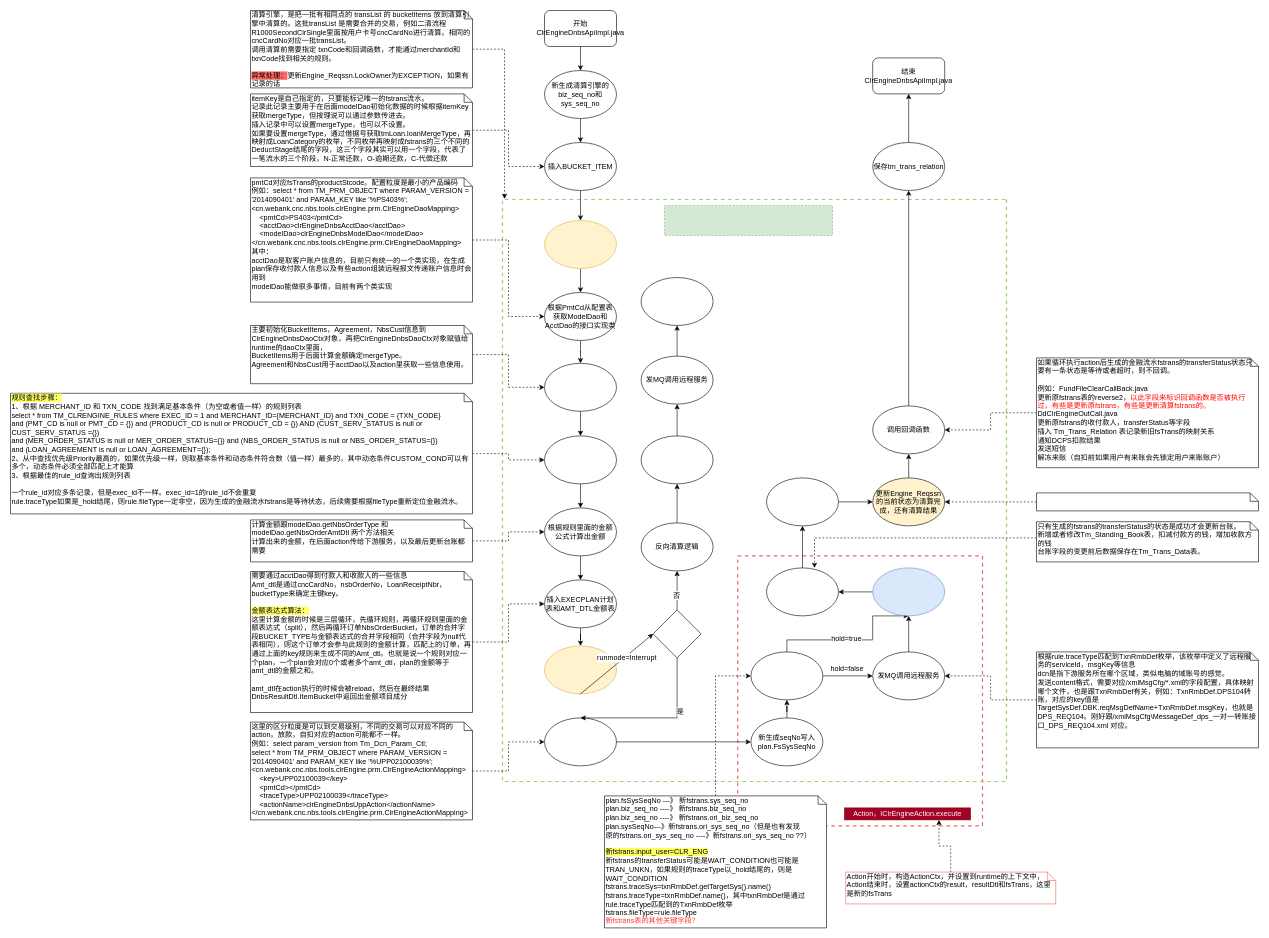
This 1269x938 diagram has some shape labels left out. Each missing label, with the centre of its shape:
"Engine_Reqssn状态置为清算执行中" belongs at [580,669].
"一定会新写入一条金融流水到fstrans表" belongs at [786,675].
"先判断是否需要冲正，如果需要的话，调用TxnRmbDef.DPS100通用冲正接口进行冲正" belongs at [676,459].
"匹配规则到最佳规则rule，再通过最佳的ruleId找到规则列表" belongs at [580,459].
"如果冲正成功，则更新新的fstrans的transferStatus为CANCEL" belongs at [676,301].
"循环execPlan进行清算（根据pmtCd和rule.traceType或者只根据rule.traceType确定使用哪个action执行器）" belongs at [580,741].
"插入Engine_Reqssn 状态为清算初始化中，并加锁" belongs at [580,244].
"更新新fstrans的transferStatus等字段" belongs at [908,591].
"更新结果集的ResultDtl和ClrResult" belongs at [802,501].
"正向清算？" belongs at [676,633].
"清算引擎，ClrEngineStdApiImpl.engineStart" belongs at [748,220].
"清算结果包含几个状态：成功， 部分成功失败，失败，等待，超时" belongs at [1147,501].
"通过modelDao初始化一些原始数据到上下文ctx里面" belongs at [580,387].
"通过modelDao对用户台帐进行兜底，台账相当于是用户余额，更新plan的StandingBookStatus" belongs at [802,591].
